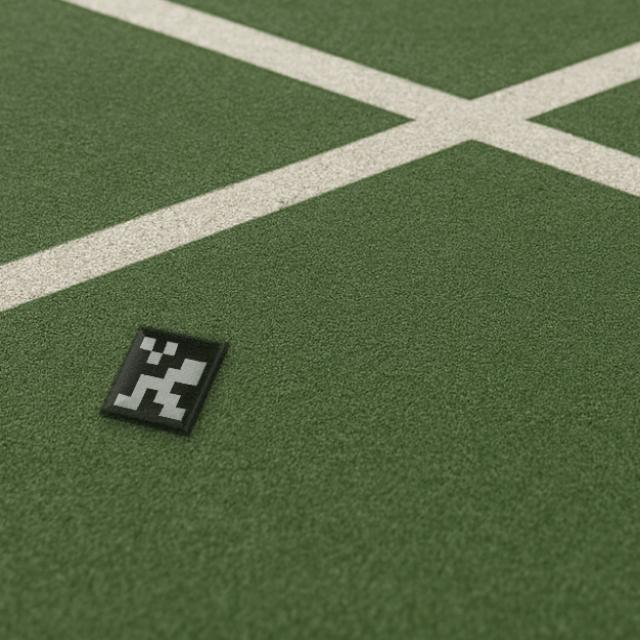marker: (90, 309, 239, 446)
